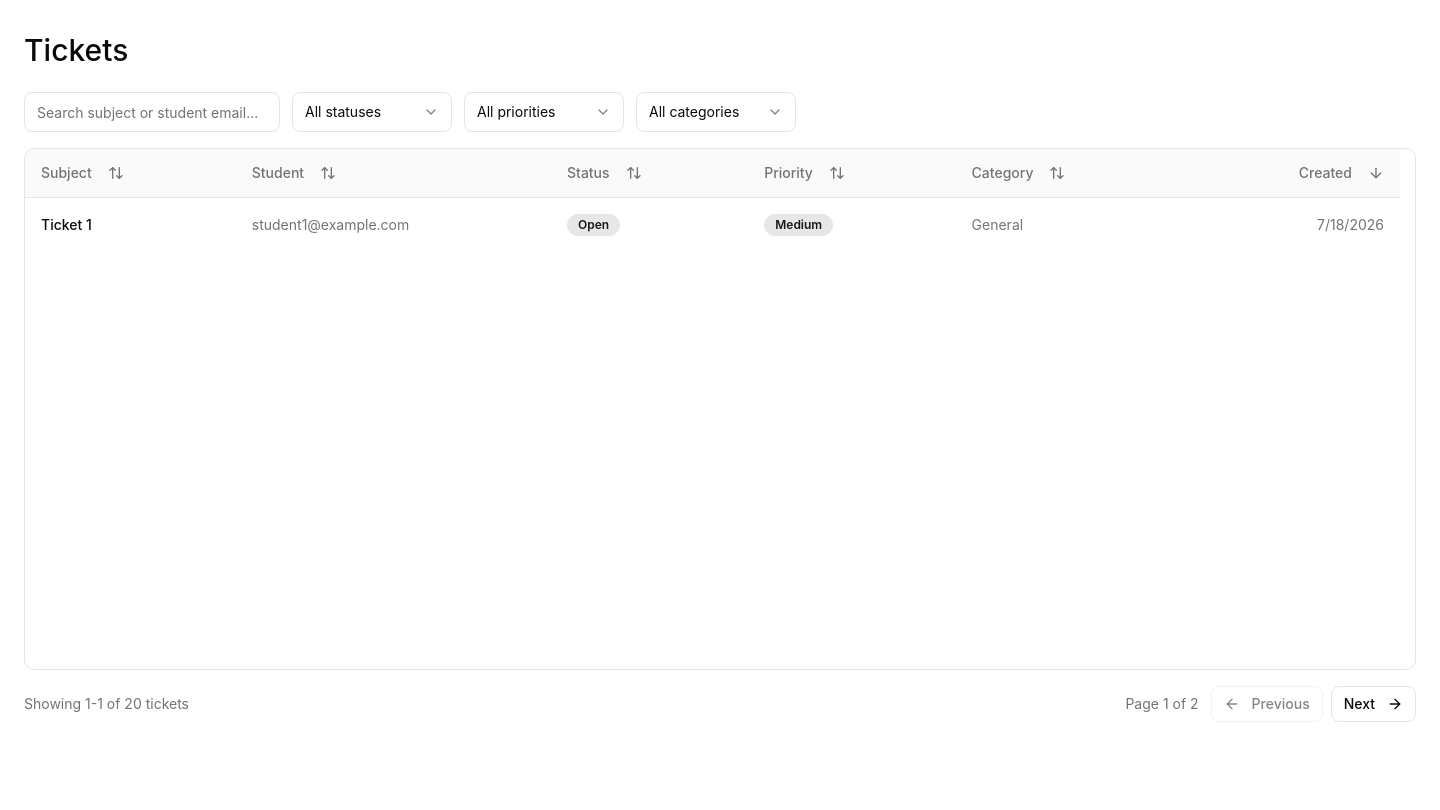
Test: TicketsPage › filtering › sends the status param and resets to page 1 when a status is selected
Expected: the text "Page 1 of 2" is shown, 1125,694 -> 1199,714
Click the dropdown named "Filter by status".
click(372, 112)  # box 292,92 -> 452,132
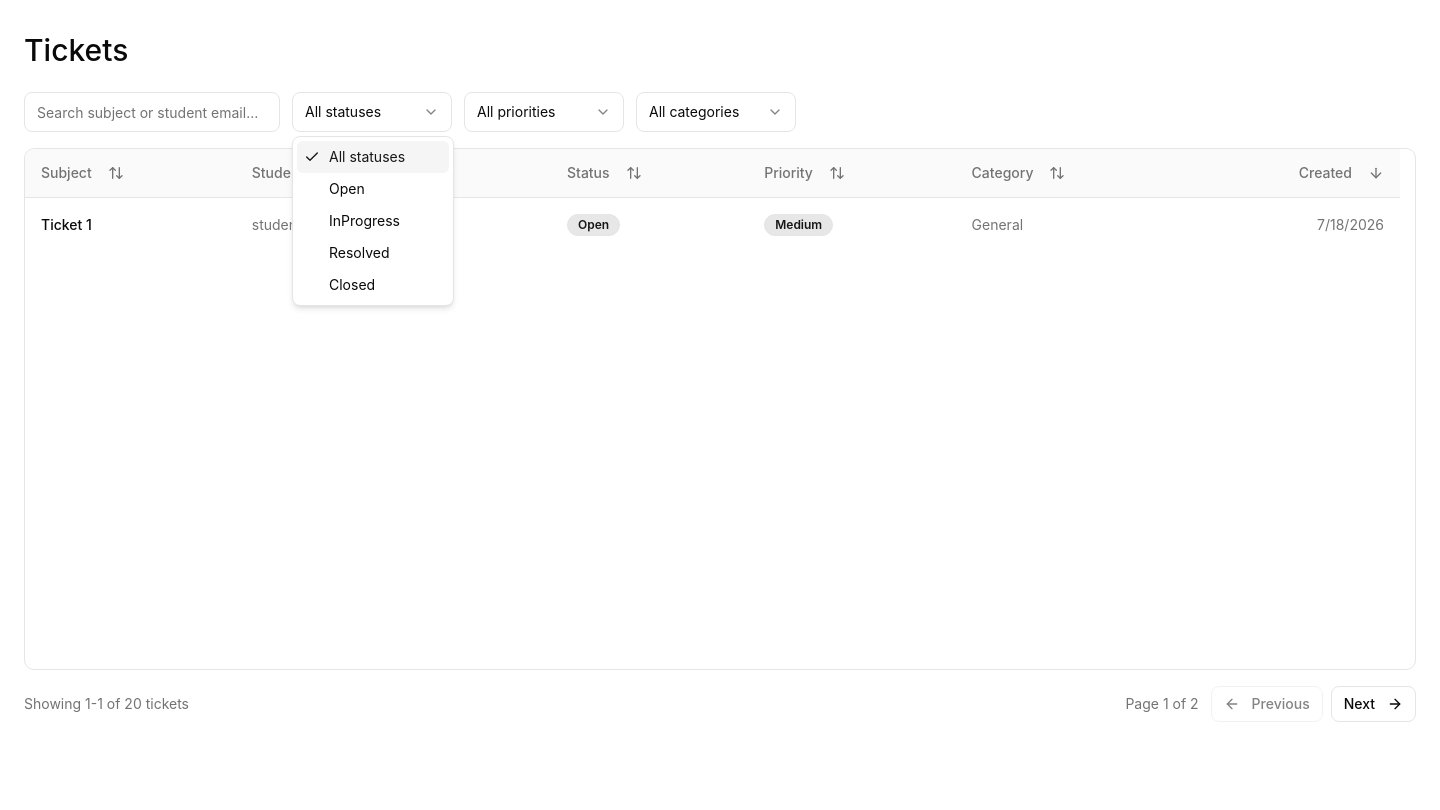
Click the option "Open".
click(347, 188)  # box 329,180 -> 365,197
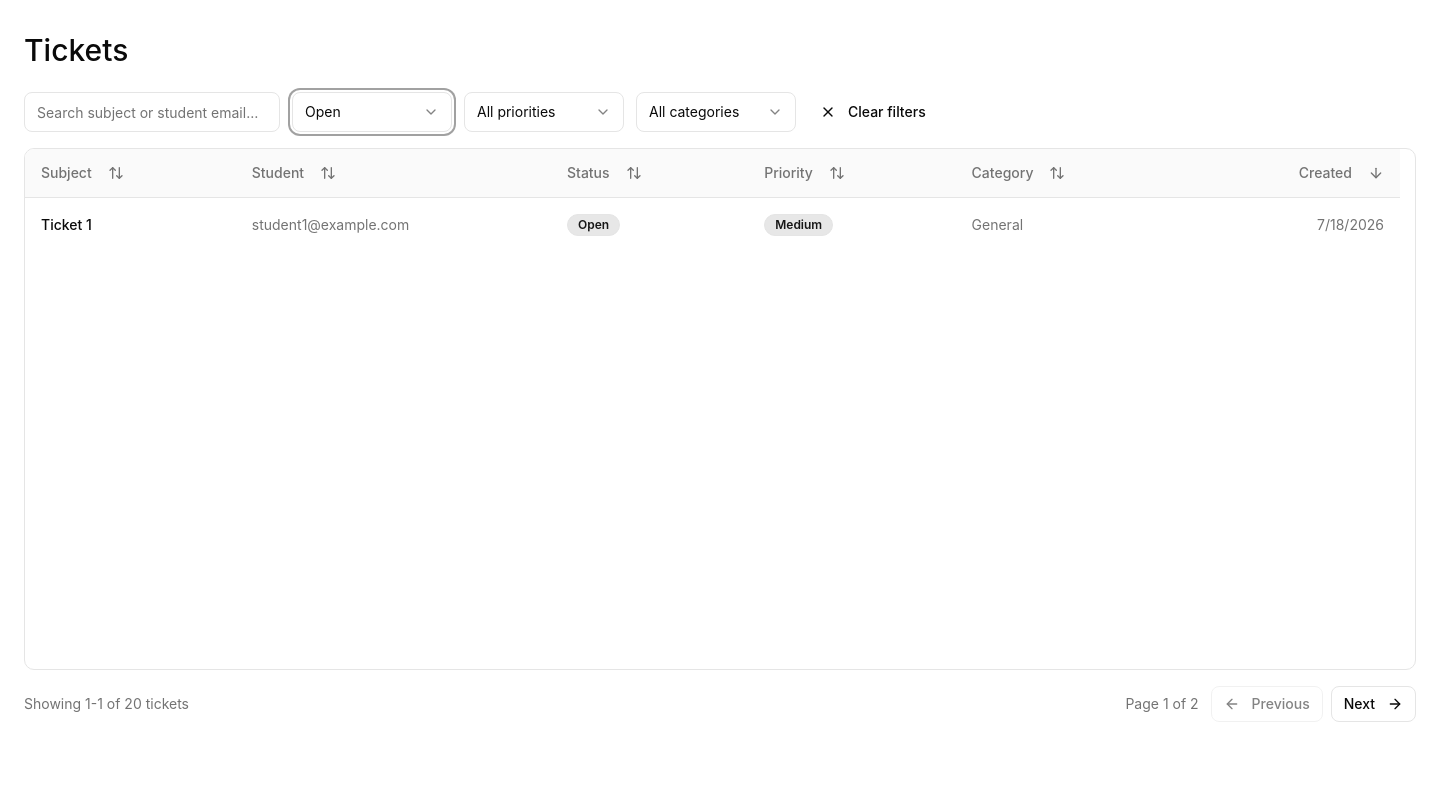
Result: the button "Clear filters" is shown at 808,94 -> 938,130
